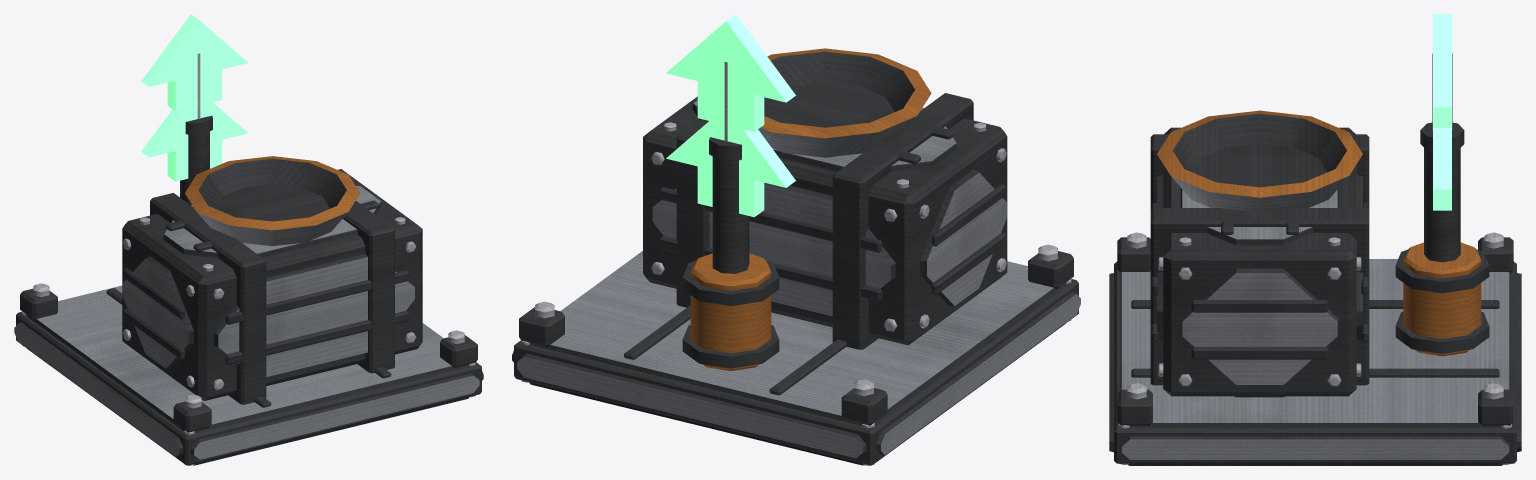
Rendered from R4X_CargoUplink.glb.
3 renders of one model, left to right at view 1: azimuth 30°, elevation 25°; view 2: azimuth 150°, elevation 25°; view 3: azimuth 270°, elevation 25°, orthographic. The views are drawn at different scales.
Parts seen in each view (by area): view 1: R4X_CargoUplink_Body; view 2: R4X_CargoUplink_Body; view 3: R4X_CargoUplink_Body.
Part boxes in pixels (x1,y1,x2,y2): R4X_CargoUplink_Body: (14, 14, 483, 465); R4X_CargoUplink_Body: (512, 14, 1080, 465); R4X_CargoUplink_Body: (1109, 14, 1521, 465).
Size of the model in its own units: 0.52 by 0.515 by 0.52.
Materials: 5 (4 with a texture image).
